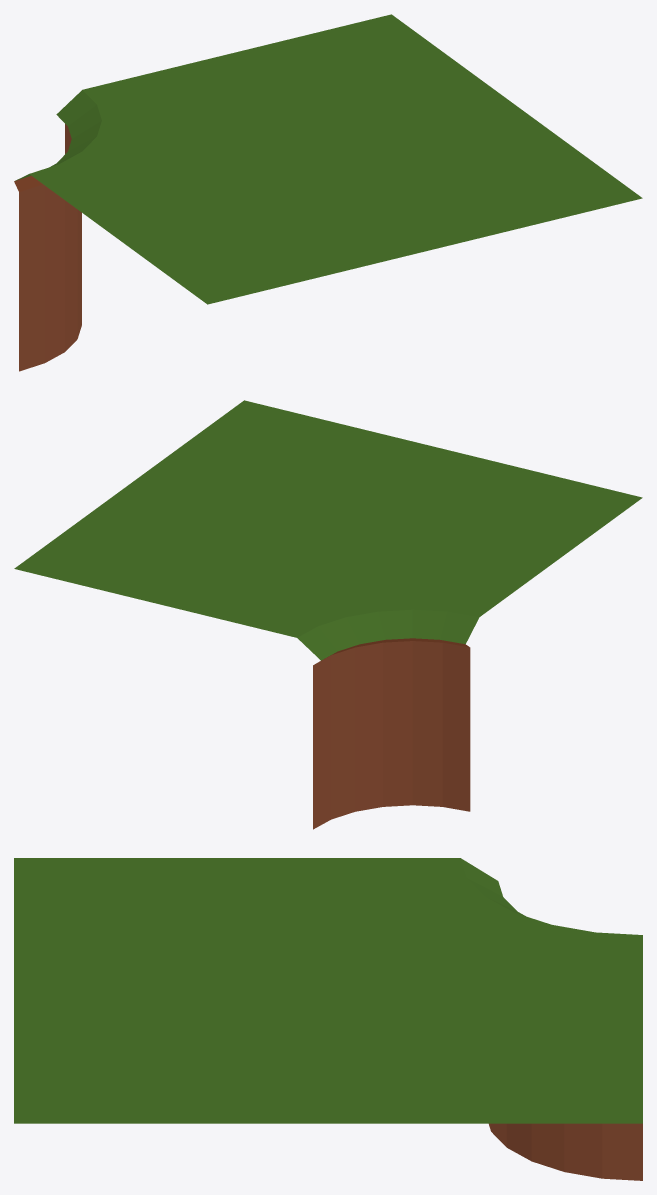
File: tile_island_corner_in.glb
3 views of the same model, one above another, from view 1: azimuth 30°, elevation 25°; view 2: azimuth 150°, elevation 25°; view 3: azimuth 270°, elevation 25° (orthographic). The views are drawn at different scales.
Parts seen in each view (by area): view 1: Tile_Cliff_Corner_Inner_Export; view 2: Tile_Cliff_Corner_Inner_Export; view 3: Tile_Cliff_Corner_Inner_Export.
Boxes of the visible parts, bbox=[...] form: Tile_Cliff_Corner_Inner_Export: bbox=[14, 14, 642, 371]; Tile_Cliff_Corner_Inner_Export: bbox=[14, 400, 642, 829]; Tile_Cliff_Corner_Inner_Export: bbox=[14, 858, 642, 1180].
Size of the model in its own units: 0.8 by 0.36 by 0.8.
Materials: 1 (1 with a texture image).
